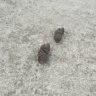Dog: (38, 44, 50, 62), (53, 29, 63, 42)
